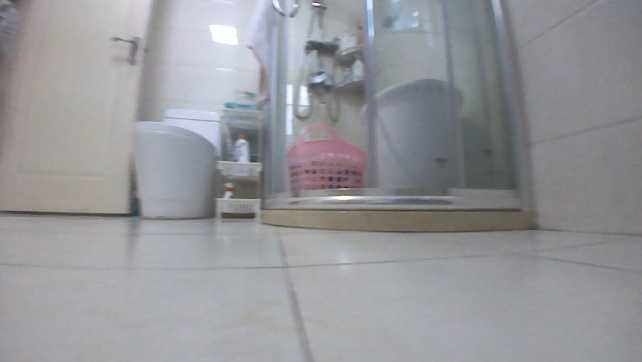door_anno: (1, 0, 151, 217)
door_sill: (258, 193, 531, 235)
toilet: (131, 105, 221, 220)
